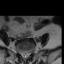CCS_normal: (24, 50, 26, 61)
LFS_normal: (29, 48, 31, 57)
LLS_normal: (26, 50, 29, 59)
RFS_normal: (19, 48, 21, 57)
RLS_normal: (21, 49, 24, 59)
